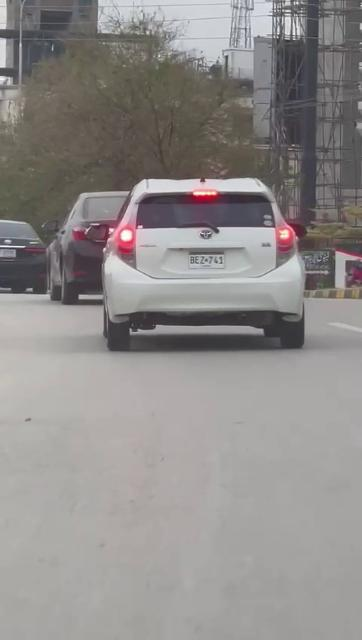plate: (185, 251, 231, 271)
